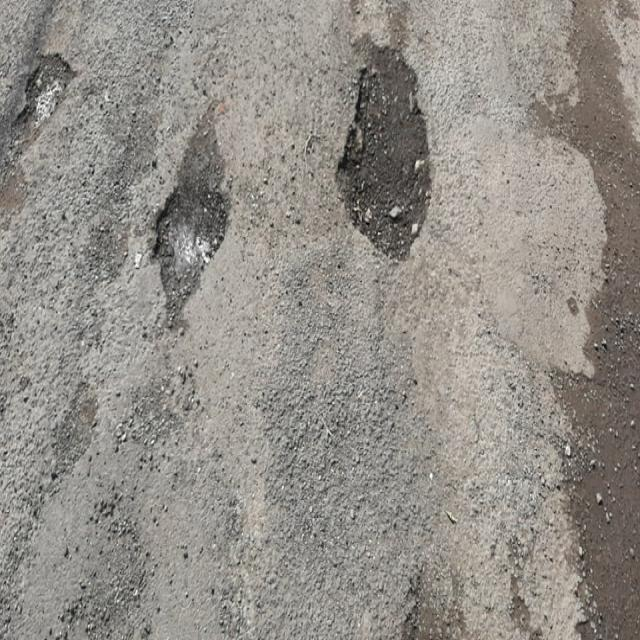Pothole: (317, 46, 478, 273), (117, 153, 278, 364), (1, 39, 98, 174)
